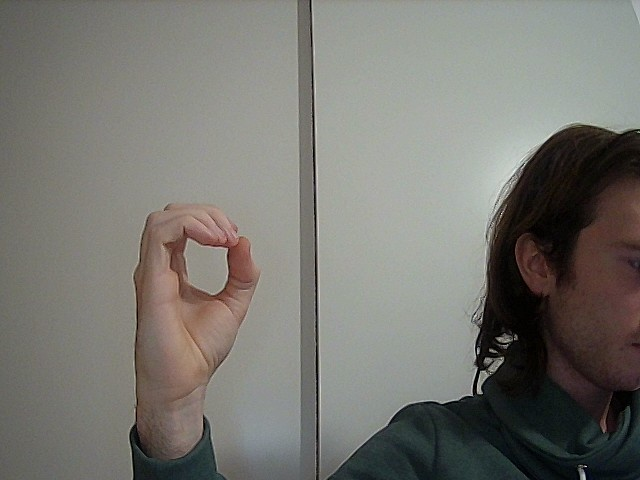o: (119, 193, 274, 391)
